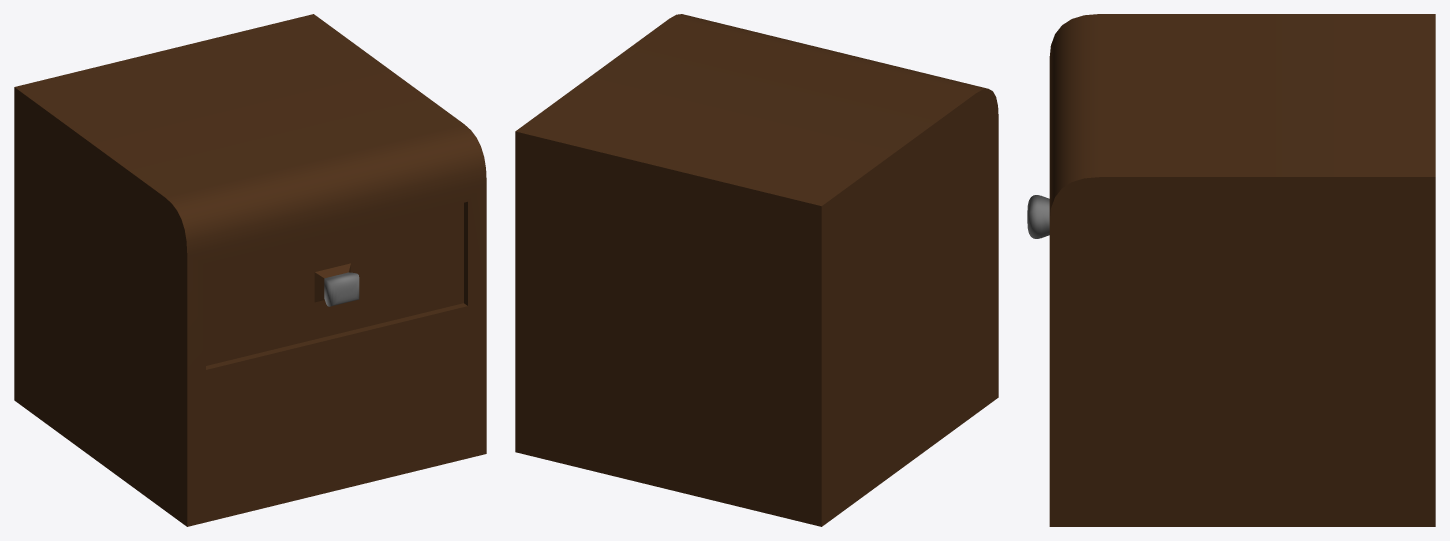
Rendered from SideCounter.FBX.
The picture shows the model from 3 angles, left to right: view 1: azimuth 30°, elevation 25°; view 2: azimuth 150°, elevation 25°; view 3: azimuth 270°, elevation 25°; orthographic projection. The views are drawn at different scales.
Parts seen in each view (by area): view 1: SideCounter; view 2: SideCounter; view 3: SideCounter.
Boxes of the visible parts, left/top/right/bottom form: SideCounter: left=14, top=14, right=486, bottom=526; SideCounter: left=515, top=14, right=998, bottom=526; SideCounter: left=1027, top=14, right=1435, bottom=526.
Bounding box in the file's own units: 97.18 × 97.18 × 103.
